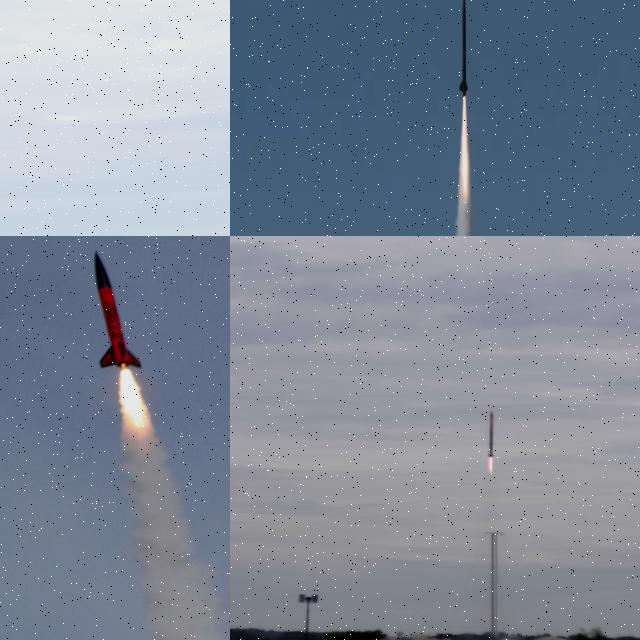Rocket: (91, 251, 145, 372), (459, 0, 468, 98), (487, 410, 495, 458)
